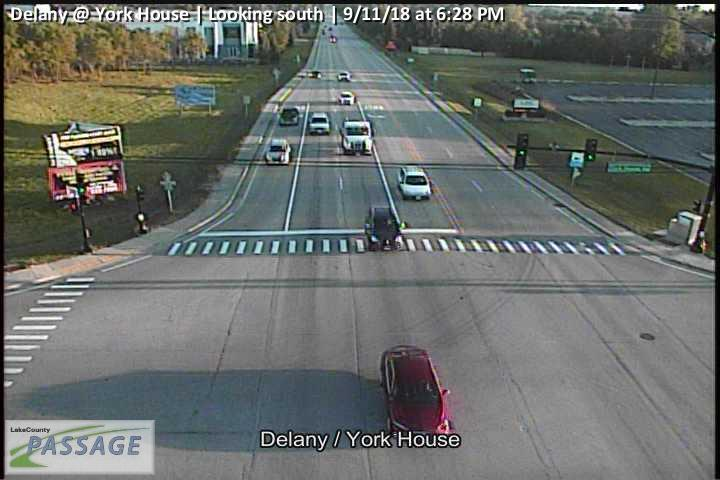SUV: (366, 206, 403, 252), (398, 166, 431, 200), (266, 138, 292, 164), (309, 112, 331, 135)
Sedan: (379, 346, 452, 441), (279, 108, 299, 125), (337, 92, 357, 104), (336, 71, 351, 82), (308, 70, 321, 77)
Truck: (342, 120, 373, 153)
